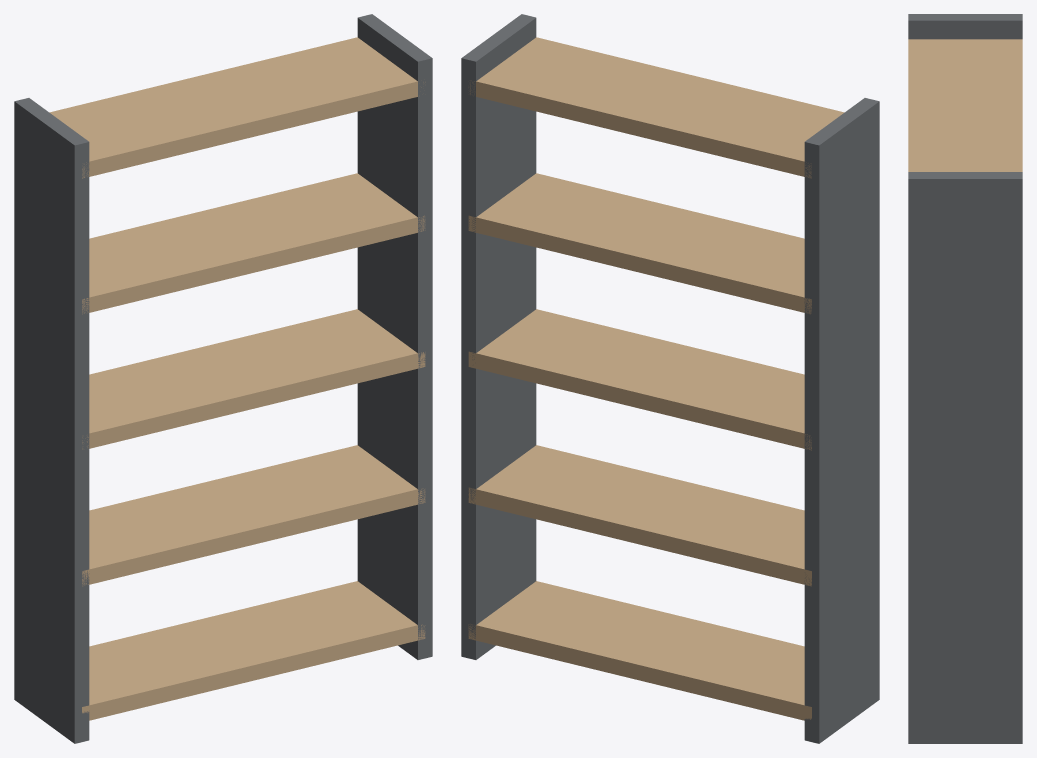
File: shelf_01.glb
3 renders of one model, left to right at view 1: azimuth 30°, elevation 25°; view 2: azimuth 150°, elevation 25°; view 3: azimuth 270°, elevation 25°, orthographic. The views are drawn at different scales.
Visible parts, largest first — view 1: side-0.525, side0.525, shelf4, shelf1, shelf3, shelf0, shelf2; view 2: side-0.525, side0.525, shelf4, shelf1, shelf3, shelf0, shelf2; view 3: side0.525, shelf4, side-0.525.
Part boxes in pixels (x1,y1,x2,y2): side-0.525: (14,98,89,743); side0.525: (357,14,432,659); shelf4: (49,37,425,178); shelf1: (82,445,425,586); shelf3: (82,173,425,314); shelf0: (82,581,425,720); shelf2: (82,309,425,449); side-0.525: (804,98,879,743); side0.525: (461,14,536,659); shelf4: (468,37,844,178); shelf1: (468,445,811,586); shelf3: (468,173,811,314); shelf0: (468,581,811,720); shelf2: (468,309,811,450); side0.525: (908,172,1022,743); shelf4: (908,39,1022,171); side-0.525: (908,14,1022,39).
Size of the model in its own units: 1.1 by 1.75 by 0.32.
